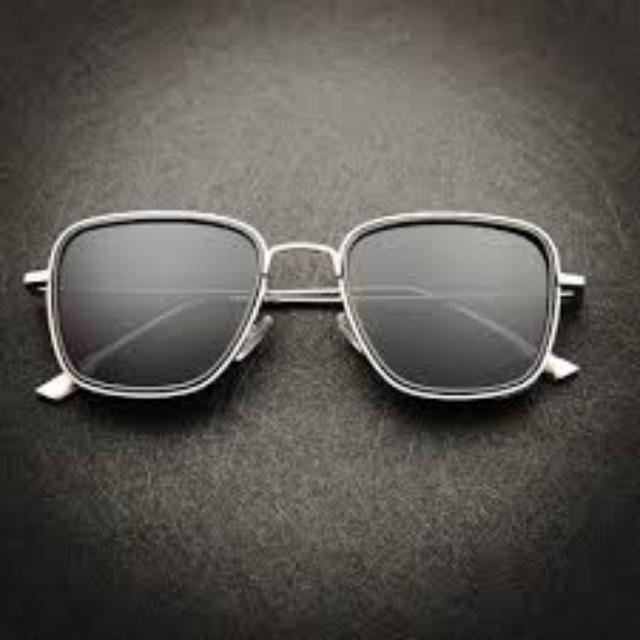glasses: (21, 208, 591, 402)
